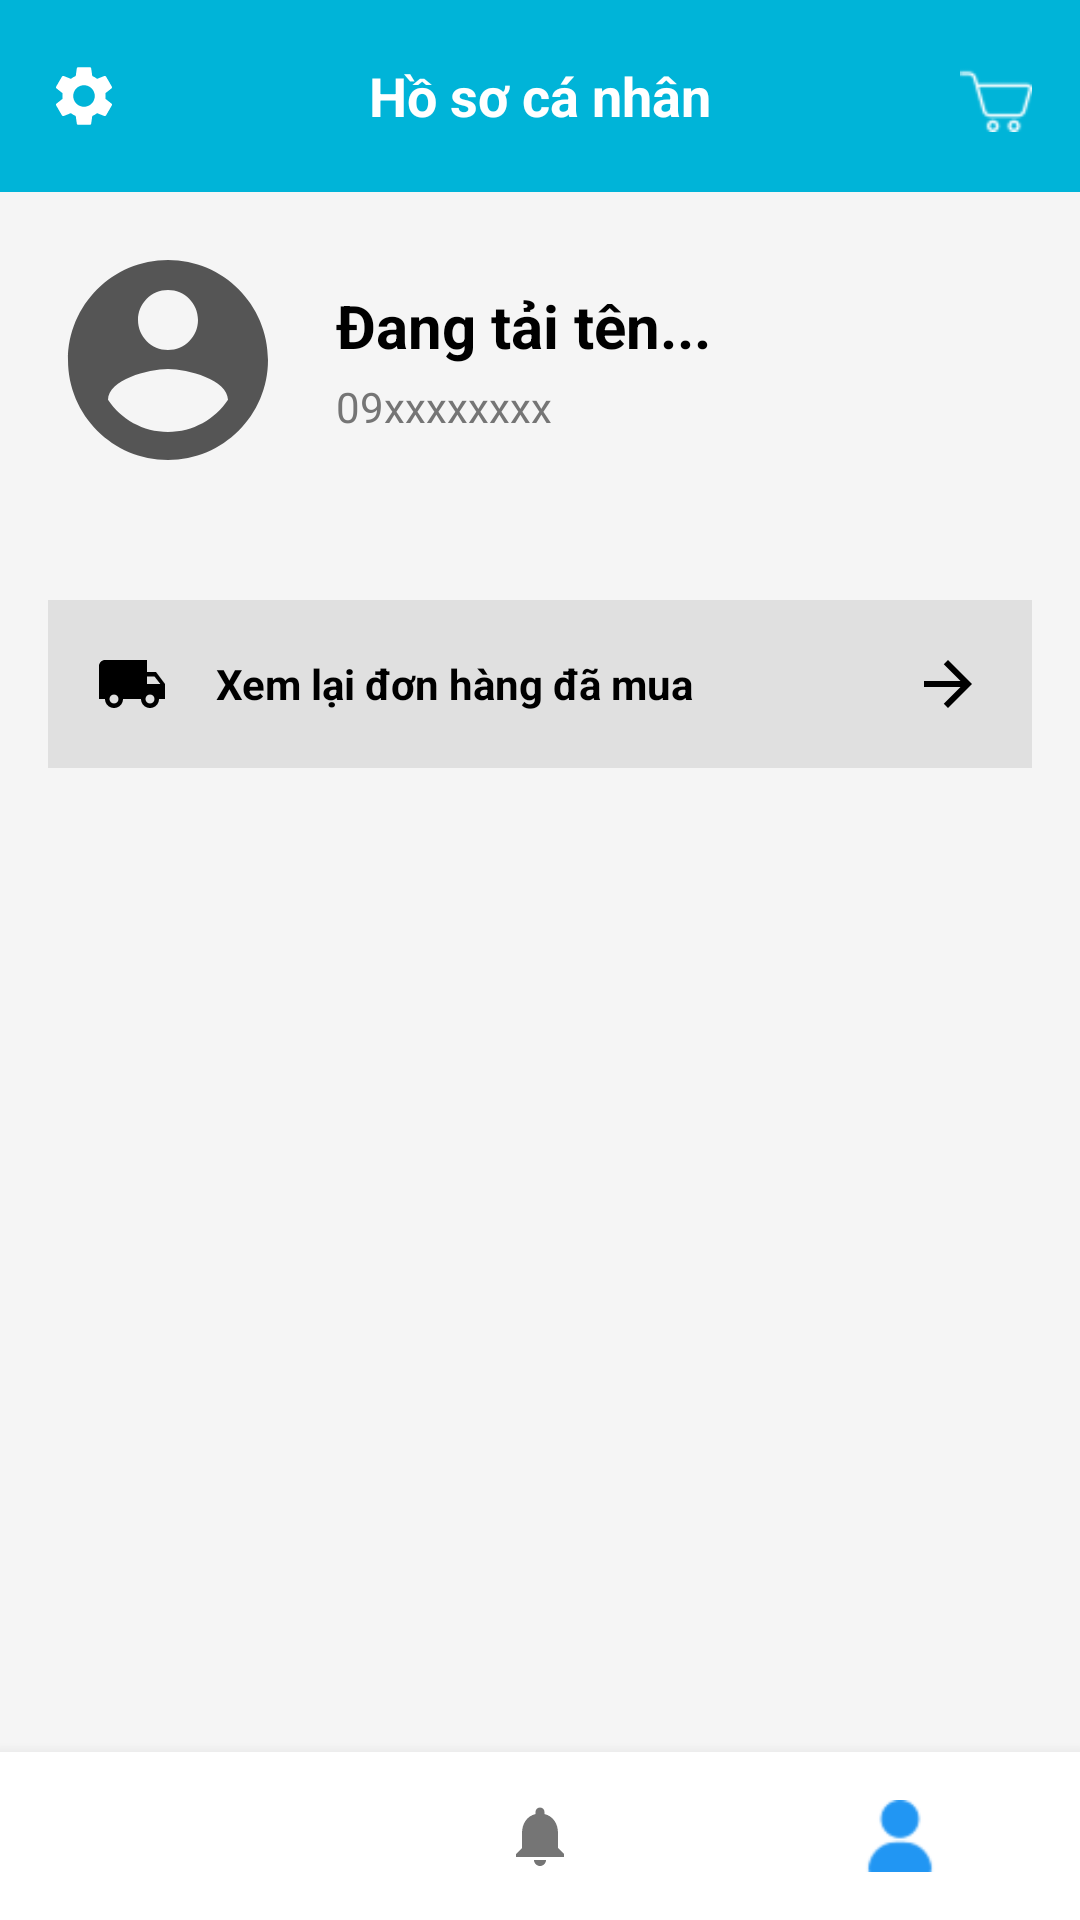

Named icons in this screenshot (1080x1920) and their bounding boxes, (x1, y1, x2, y2):
account circle: (68, 260, 268, 460)
arrow forward: (924, 660, 972, 708)
cart: (960, 70, 1032, 132)
notifications: (516, 1807, 564, 1866)
person: (867, 1800, 933, 1872)
settings: (56, 67, 112, 125)
truck: (99, 660, 165, 708)
